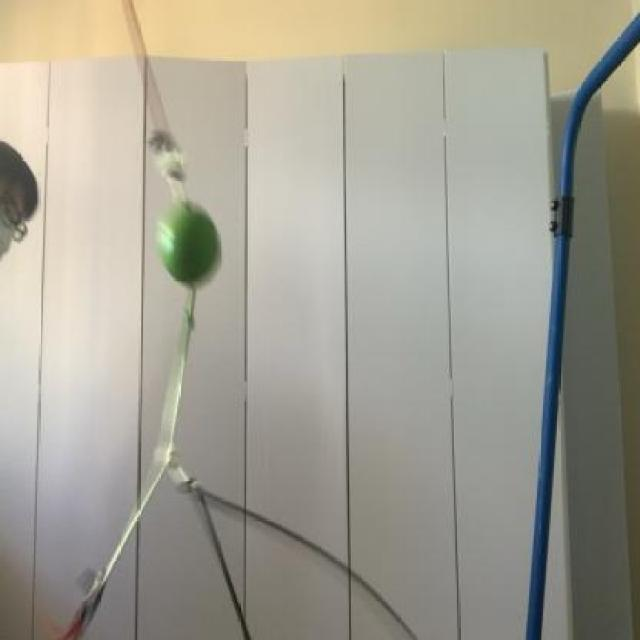baseball: (139, 183, 233, 294)
